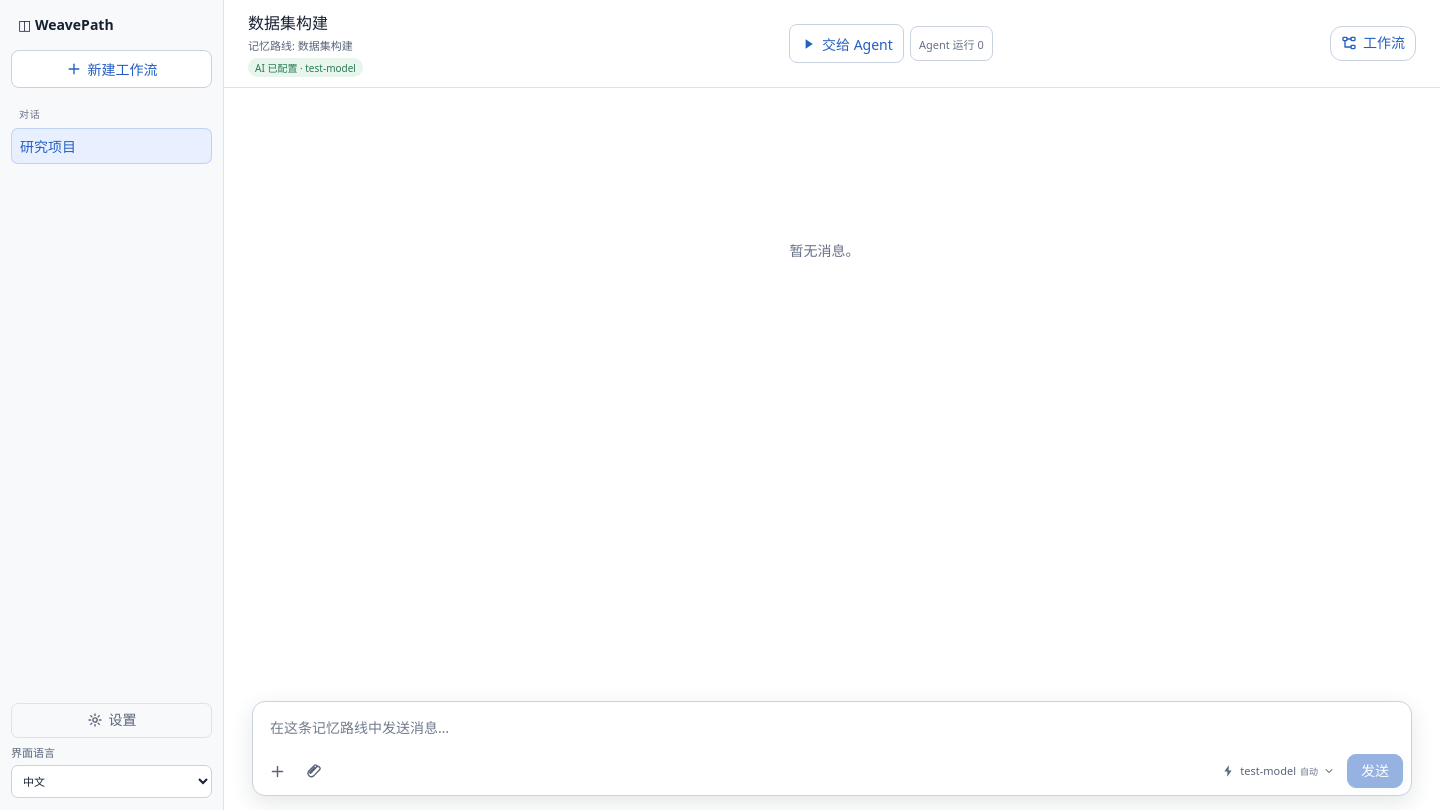
Test case: chat delivery mode › switches the configured model from the composer without opening settings
The image size is (1440, 810).
Expected: the form named "切换模型: test-model · 自动" is shown, [252,701,1412,796]
Click the button with aria-label "切换模型: test-model · 自动": (1278, 771) [1214,755,1342,787]
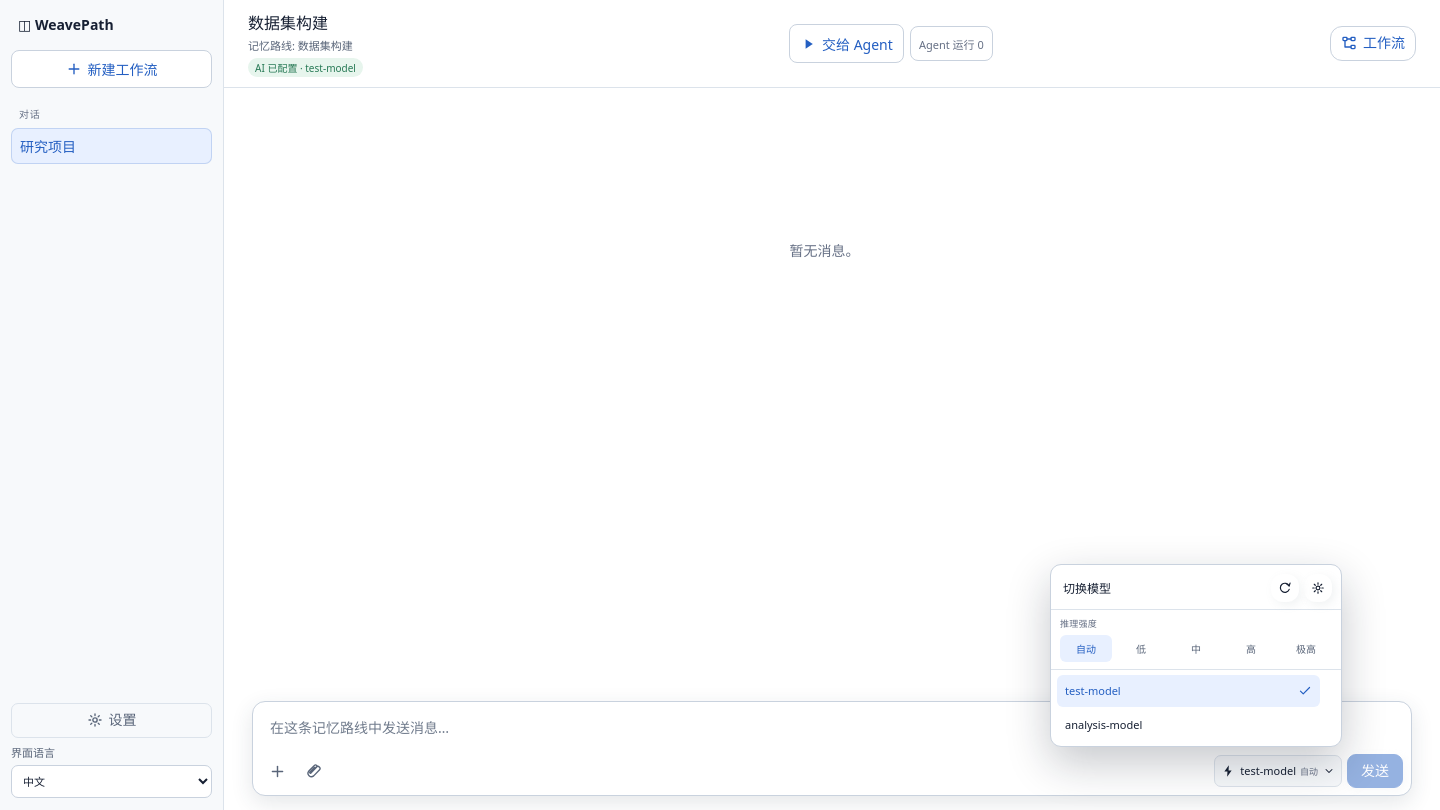
Click the option "analysis-model": (1104, 725) [1057,709,1320,741]
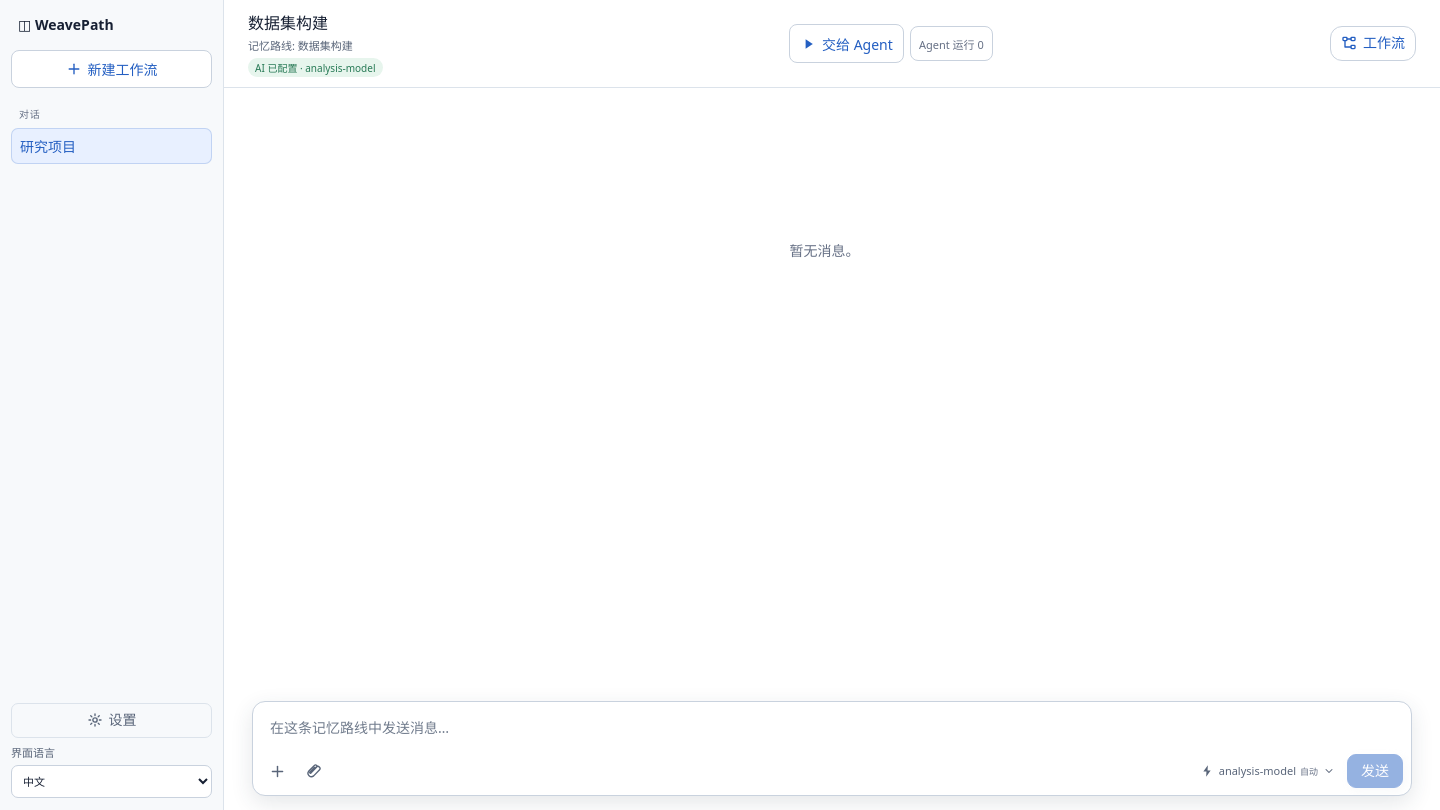
Now the button with aria-label "切换模型: analysis-model · 自动" is shown, box [1193,755,1342,787]
Now the button "模型设置" is gone
